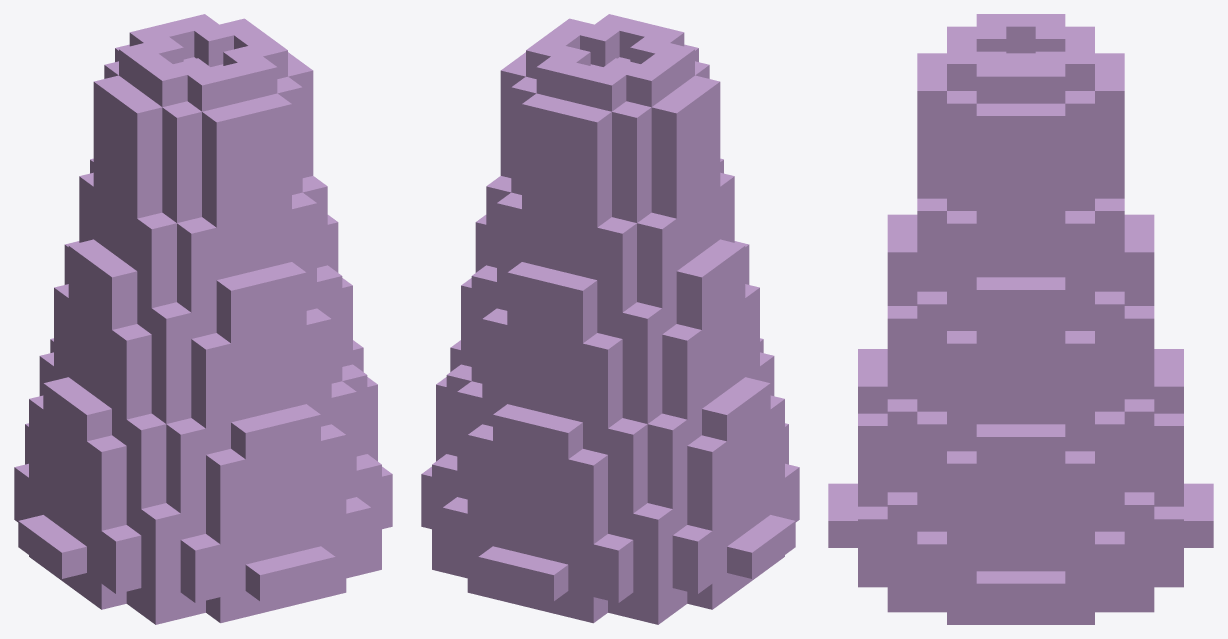
File: alien-biosphere-mineral-chimney-f7f41928__22746.glb
3 views of the same model, side by side, from view 1: azimuth 30°, elevation 25°; view 2: azimuth 150°, elevation 25°; view 3: azimuth 270°, elevation 25° (orthographic). The views are drawn at different scales.
Parts seen in each view (by area): view 1: mineral-chimney; view 2: mineral-chimney; view 3: mineral-chimney.
Part boxes in pixels (<box>): mineral-chimney: <box>14,14,392,624</box>; mineral-chimney: <box>421,14,799,624</box>; mineral-chimney: <box>828,14,1213,624</box>.
Size of the model in its own units: 2.6 by 3.8 by 2.6.
